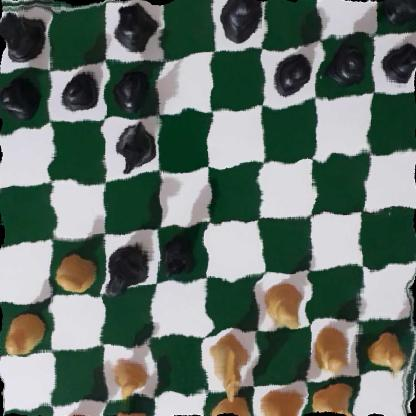black-bishop: (108, 2, 162, 55), (157, 227, 197, 280)
black-king: (218, 0, 266, 44)
black-knight: (114, 115, 154, 172)
black-pawn: (326, 39, 370, 86), (57, 66, 98, 113), (270, 49, 312, 94), (380, 39, 416, 87), (2, 75, 37, 122), (114, 66, 151, 110)
black-queen: (101, 238, 149, 296)
black-rook: (0, 6, 47, 64), (381, 0, 416, 25)
white-bishop: (257, 385, 304, 416), (108, 403, 152, 416)
white-king: (209, 390, 253, 416)
white-knight: (209, 339, 249, 407)
white-pawn: (311, 324, 355, 377), (261, 281, 307, 330), (54, 247, 93, 298), (3, 307, 44, 355), (110, 350, 147, 400), (365, 326, 408, 369)
white-rook: (310, 382, 363, 416), (54, 409, 96, 416)
